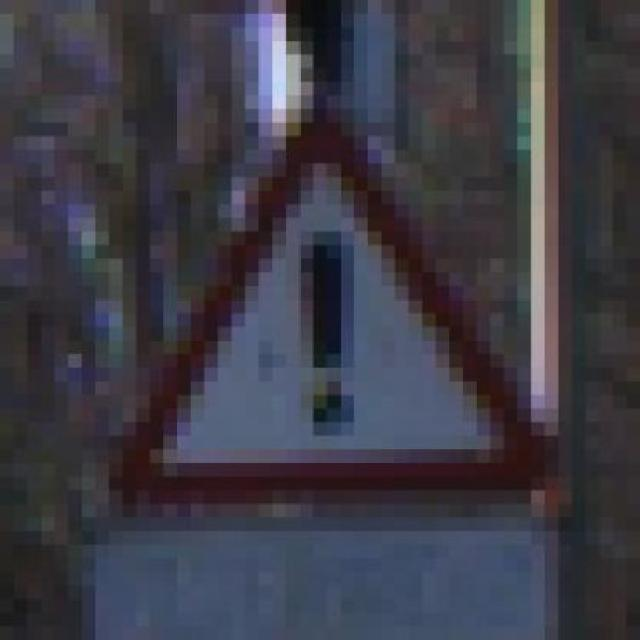Attention Please-: (81, 108, 558, 490)
